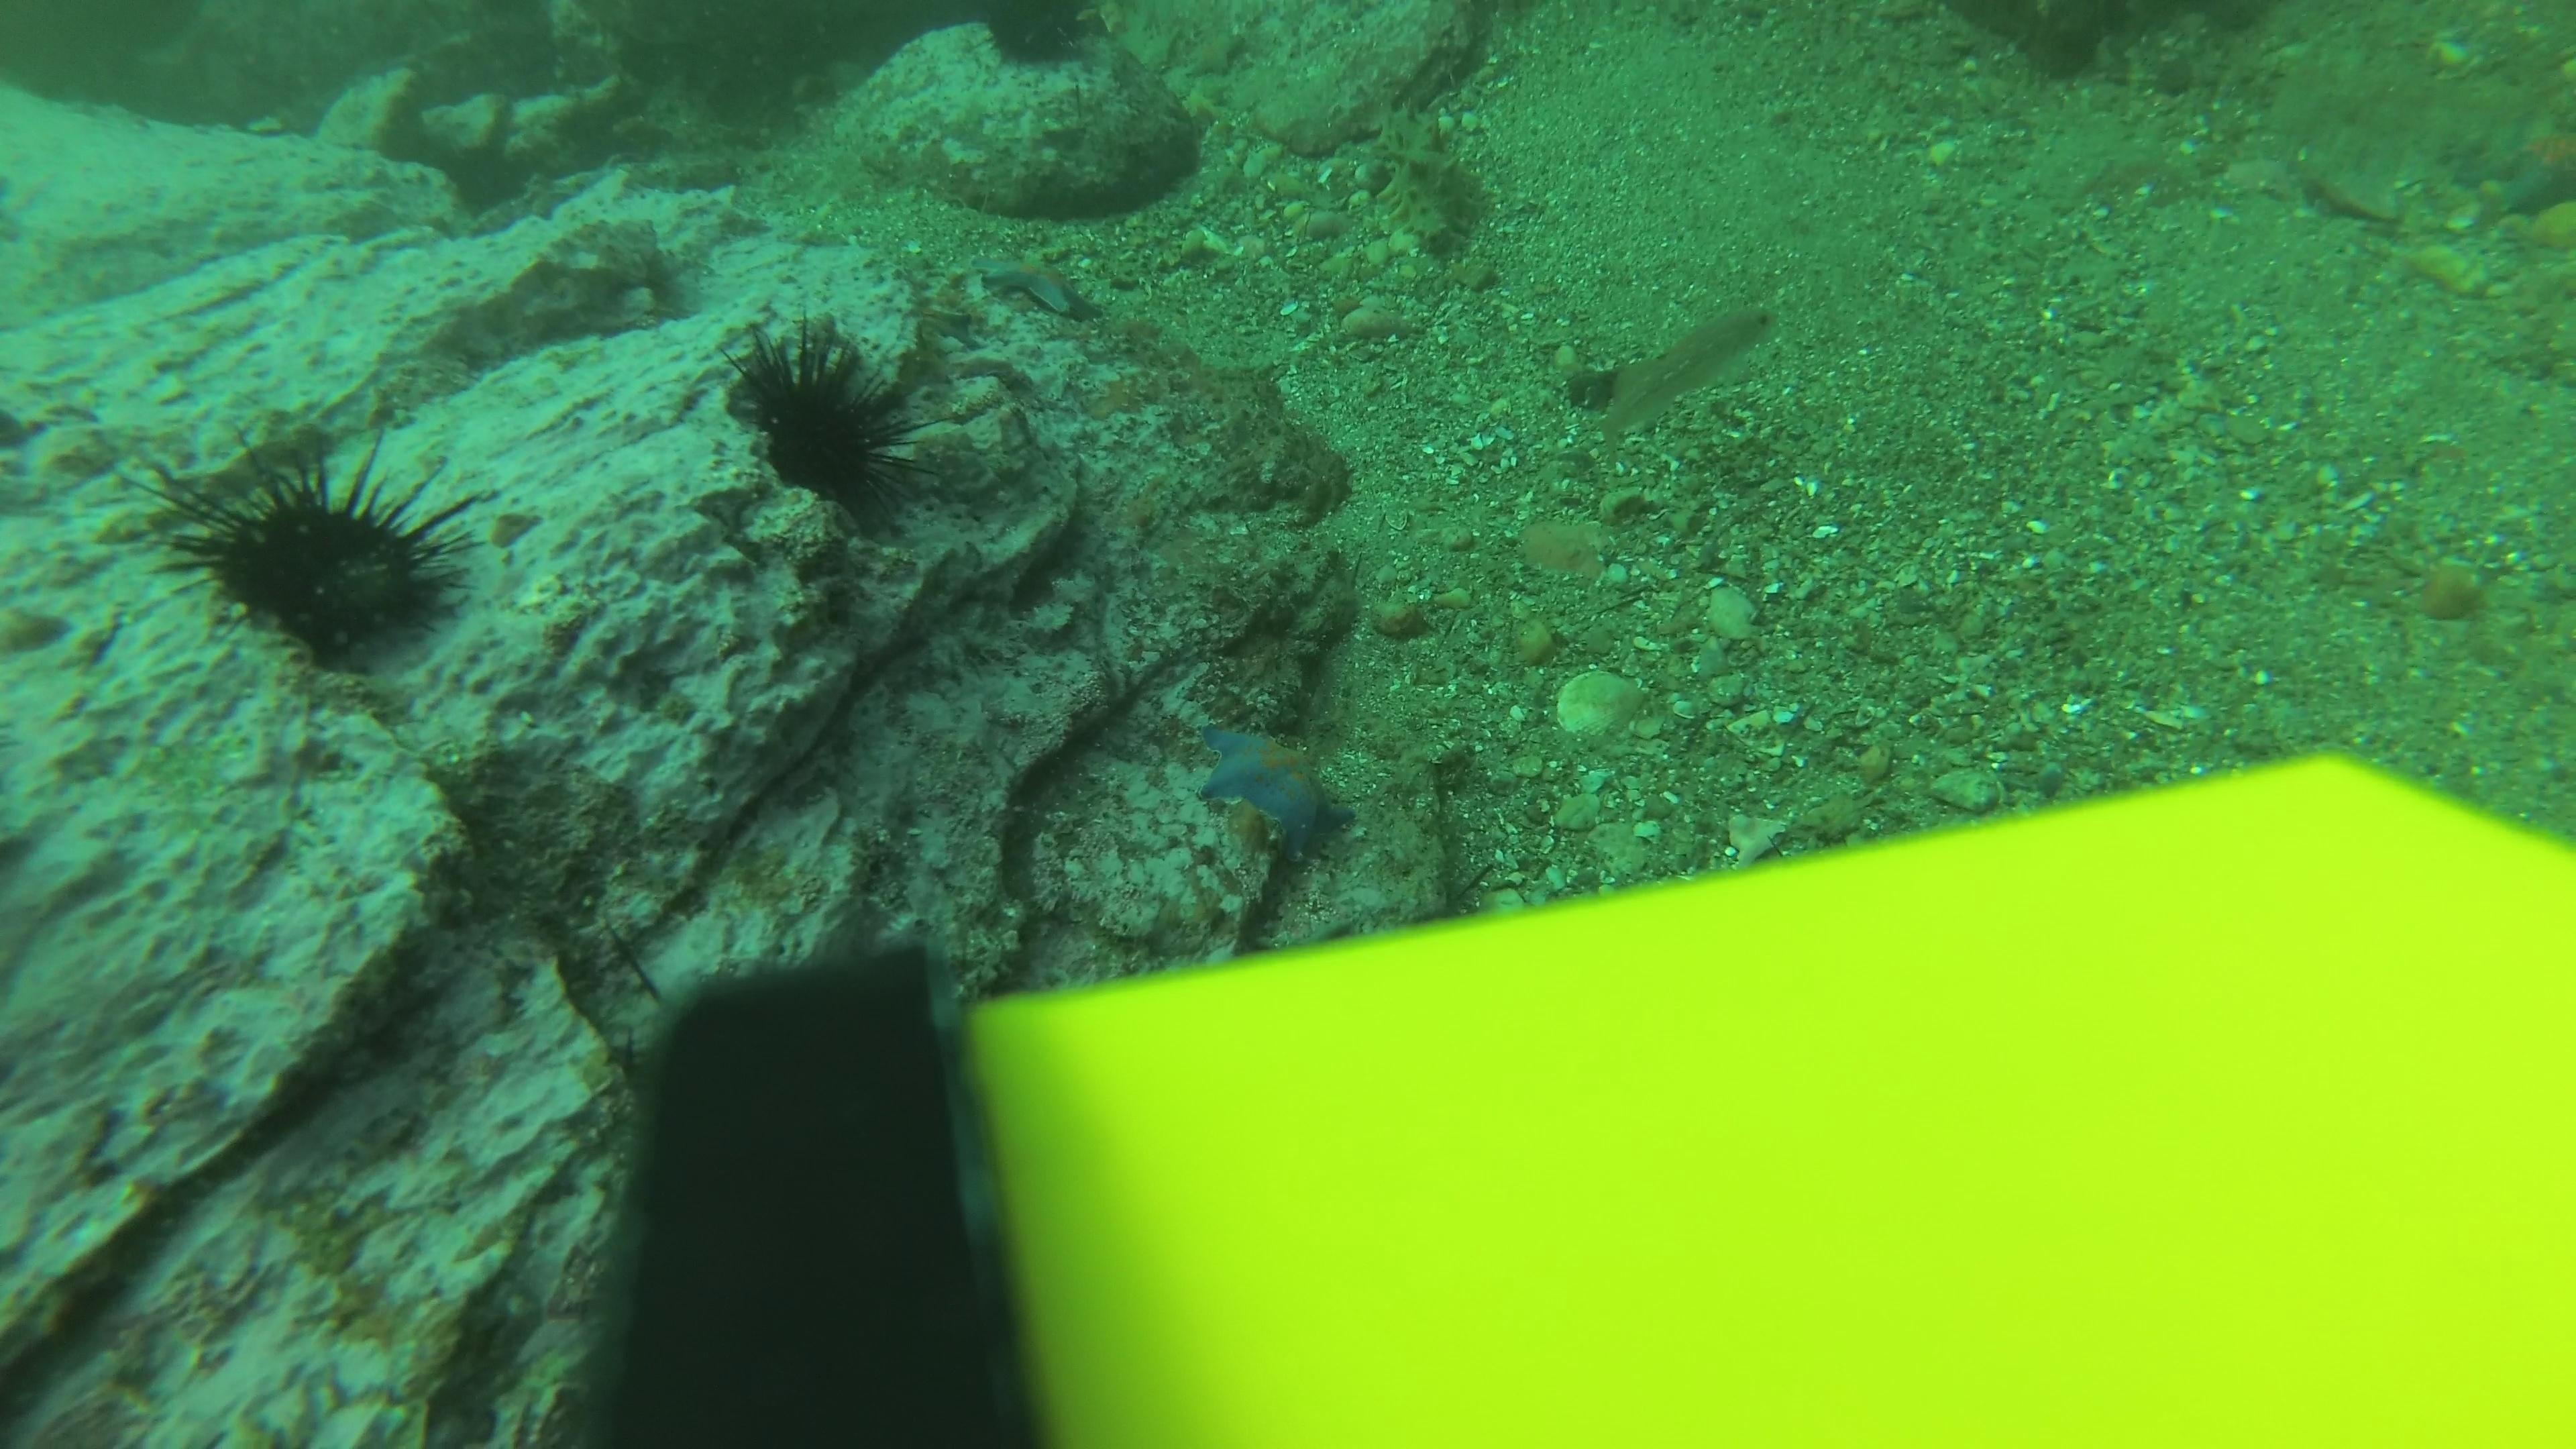echinus: (145, 425, 485, 667), (717, 313, 936, 525), (970, 0, 1111, 73)
holothurian: (1366, 101, 1493, 276)
starfish: (1187, 711, 1357, 860), (966, 248, 1100, 320), (2486, 111, 2574, 221), (481, 156, 589, 230)
